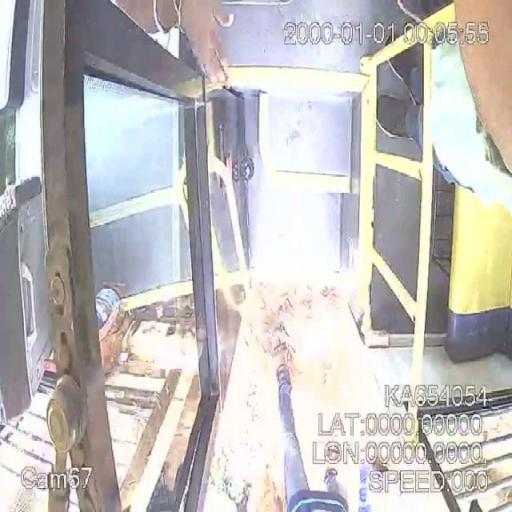persona: (274, 362, 349, 511)
